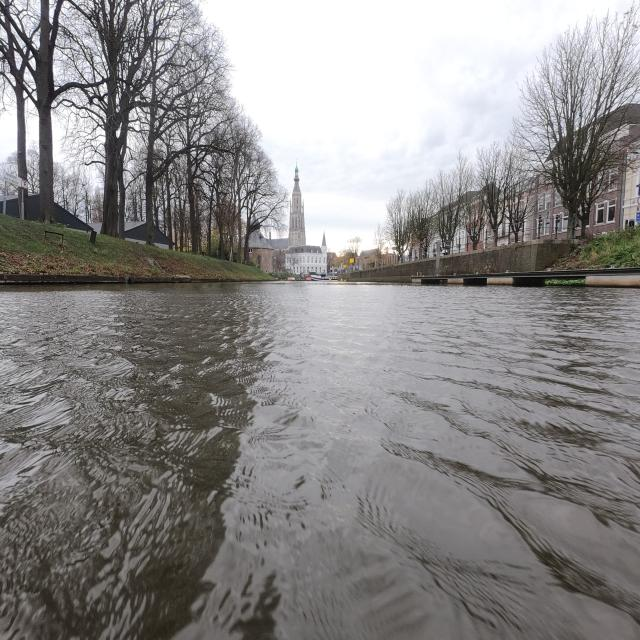dock: (455, 268, 640, 286), (0, 270, 184, 286), (411, 275, 452, 284)
grass: (0, 220, 242, 274), (578, 230, 638, 268)
sky: (198, 4, 622, 248)
tree: (514, 3, 640, 239), (81, 0, 160, 239)
wall: (439, 239, 571, 278), (347, 258, 437, 281)
water: (10, 288, 638, 632)
